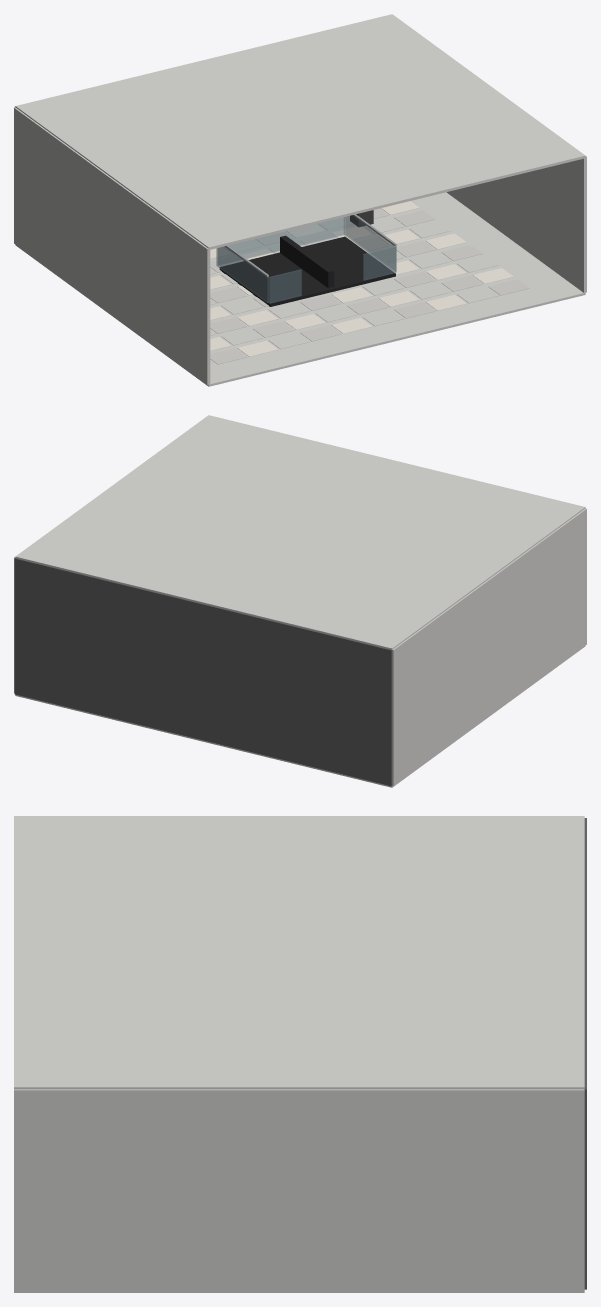
The model's file is CCC_Scope_Cinema.glb.
3 views of the same model, one above another, from view 1: azimuth 30°, elevation 25°; view 2: azimuth 150°, elevation 25°; view 3: azimuth 270°, elevation 25° (orthographic). The views are drawn at different scales.
Parts seen in each view (by area): view 1: CCC_Ceiling, CCC_LeftWall, CCC_Floor, CCC_RightWall, EscalatorVoid, GlassRailBack, GlassRailSide_-3.05, GlassRailSide_3.05, EscalatorDivider, GlassRailFrontL, GlassRailFrontR; view 2: CCC_Ceiling, CCC_BackWall, CCC_LeftWall, CCC_Floor; view 3: CCC_Ceiling, CCC_RightWall, CCC_Floor, CCC_BackWall.
Part boxes in pixels (x1,y1,x2,y2): CCC_Ceiling: (15,14,585,249); CCC_LeftWall: (14,107,210,384); CCC_Floor: (15,192,585,386); CCC_RightWall: (396,17,586,292); EscalatorVoid: (219,236,395,306); GlassRailBack: (218,217,344,265); GlassRailSide_-3.05: (216,246,268,302); GlassRailSide_3.05: (344,215,396,271); EscalatorDivider: (280,235,334,288); GlassRailFrontL: (268,269,301,303); GlassRailFrontR: (363,246,396,280); CCC_Ceiling: (15,415,585,649); CCC_BackWall: (14,558,392,786); CCC_LeftWall: (392,508,586,785); CCC_Floor: (15,646,585,787); CCC_Ceiling: (14,816,584,1089); CCC_RightWall: (14,1089,584,1290); CCC_Floor: (14,1290,584,1292); CCC_BackWall: (584,818,586,1289).
Size of the model in its own units: 18.14 by 7.73 by 16.07.
